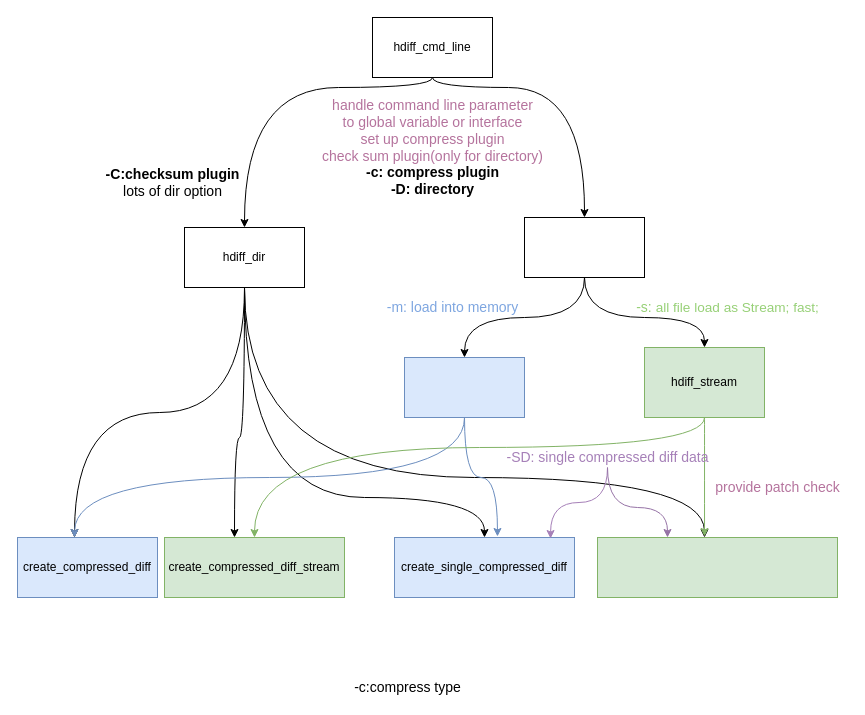
The diagram is 865 pixels wide and 715 high, and some of its shapes have lost their labels. The shapes that lost their labels are listed below. From the top down, each one's box as (x1, y1, x2, y2) in pixels, then its label:
(524, 216, 644, 278): hdiff
(404, 356, 524, 418): hdiff_mem
(596, 536, 838, 598): create_single_compressed_diff_stream
